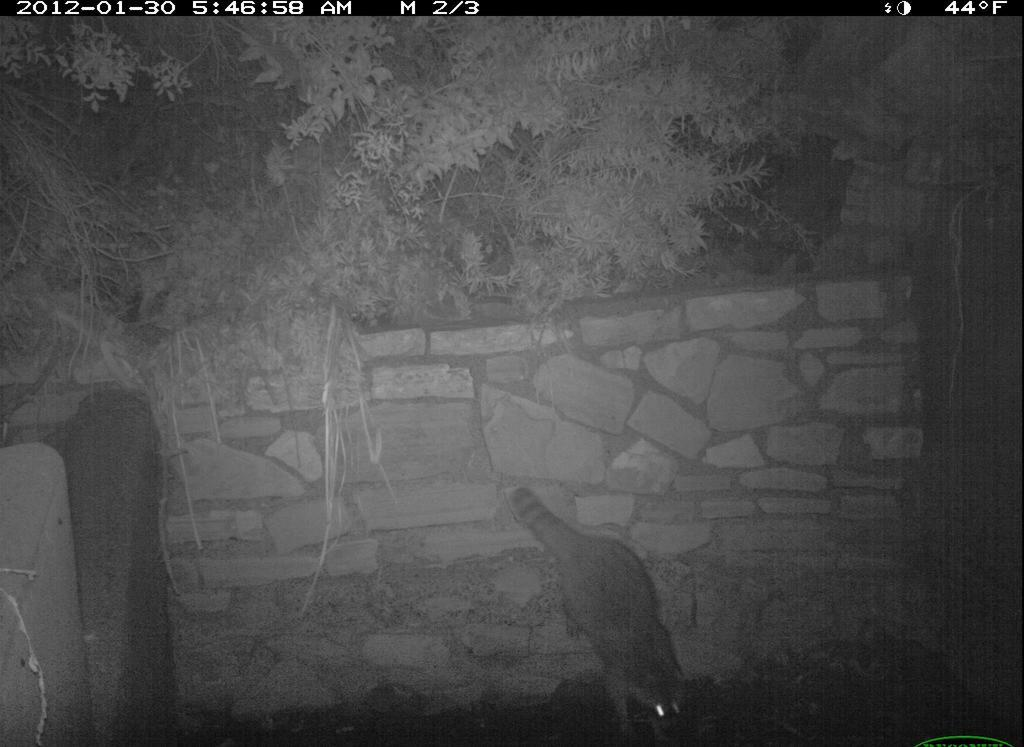raccoon: (502, 470, 721, 747)
